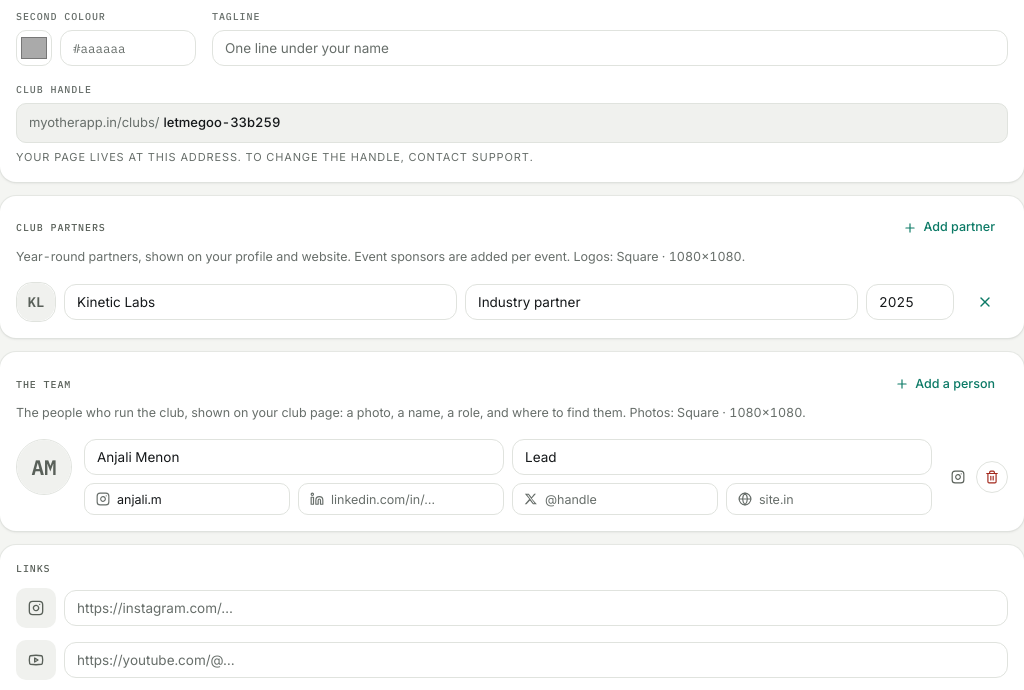
Test case: the team › will not add a person without a name
(page scrolled)
Click the button "Add a person" at (945, 384), box [882,368,1008,400]
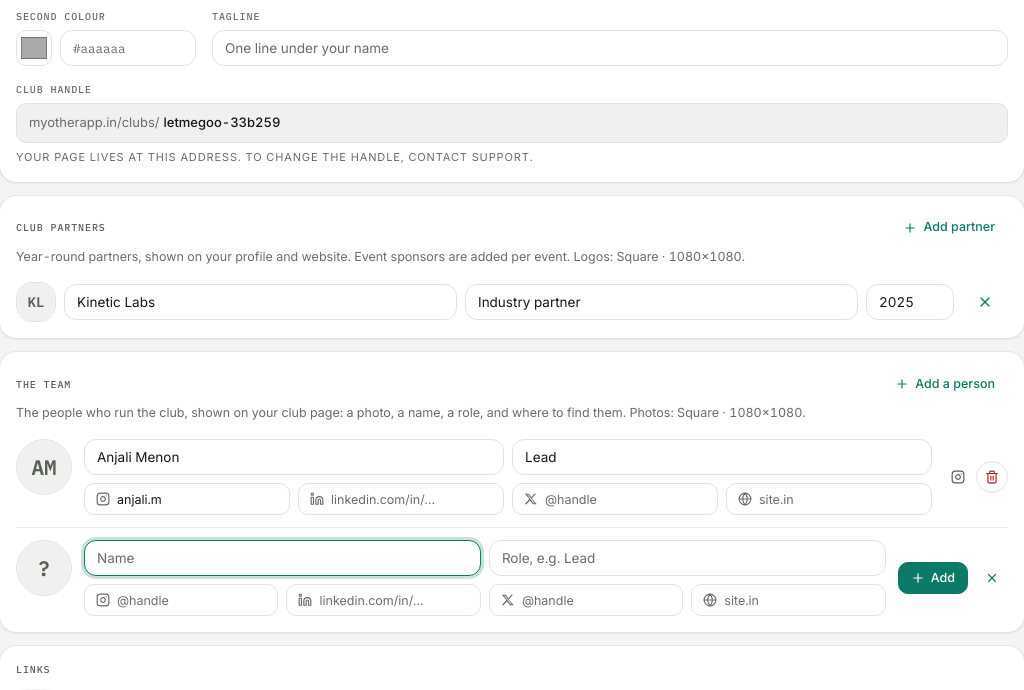
Type "Design" into the field named "New member role" at (687, 558), box [489,540,886,576]
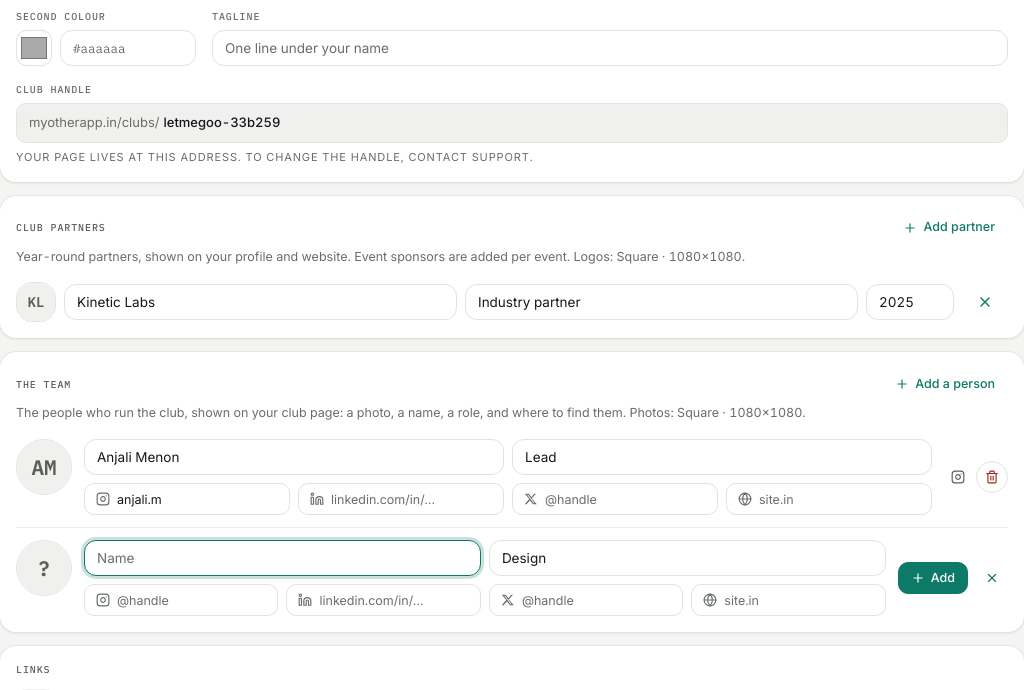
Click the button "Add" at (933, 578), box [898,562,968,594]
(page scrolled)
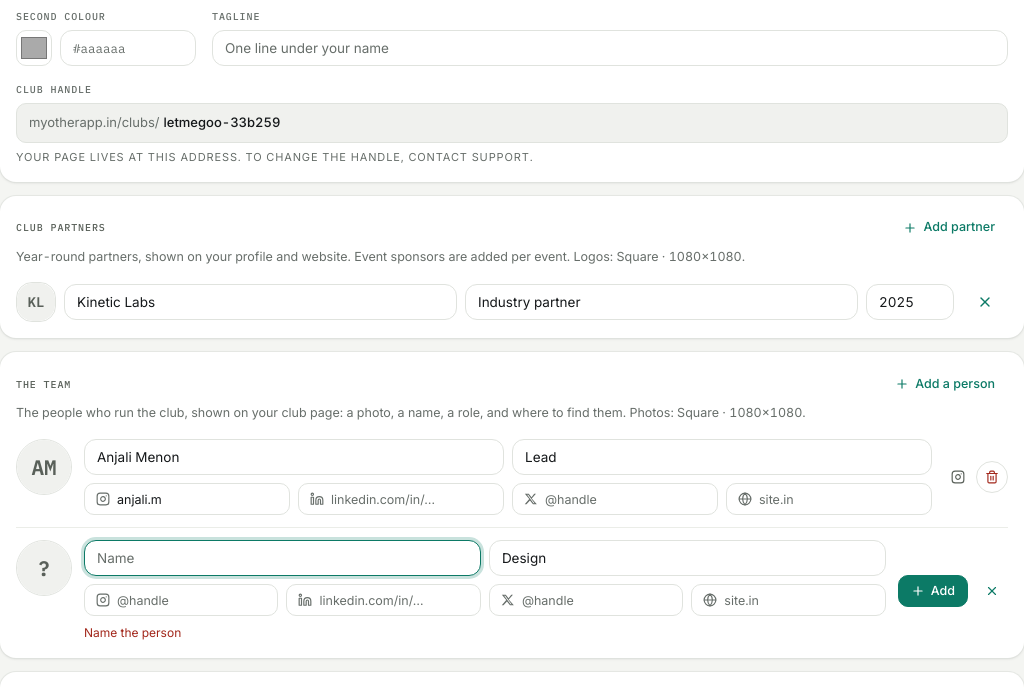
Now the text "Name the person" is shown, box [84,625,181,640]
